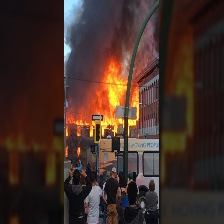fire: (68, 61, 138, 137)
smoke: (65, 1, 158, 80)
